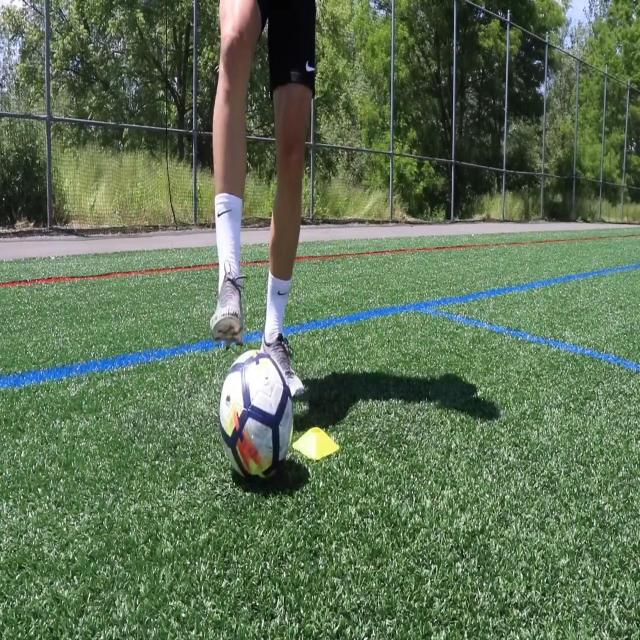Soccer Ball: (219, 348, 294, 485)
